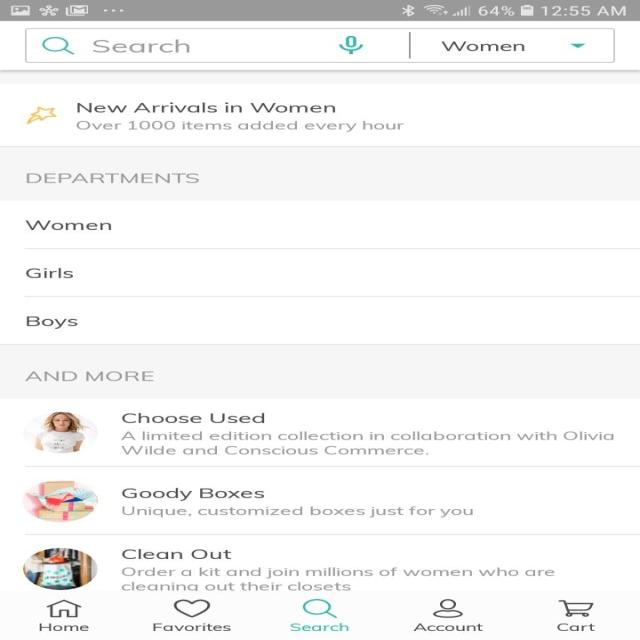EditText: (24, 28, 614, 63)
Icon: (173, 598, 211, 618), (46, 598, 82, 618), (301, 598, 337, 618), (431, 598, 463, 618), (557, 600, 594, 616), (42, 36, 74, 54), (338, 36, 362, 54), (569, 43, 586, 48)
Image: (22, 547, 98, 590), (22, 480, 98, 522), (23, 411, 98, 453), (26, 106, 57, 125)
Text: (120, 431, 614, 455), (121, 566, 555, 591), (121, 505, 473, 518), (76, 120, 403, 132), (77, 102, 336, 112), (26, 173, 200, 184), (121, 488, 264, 501), (121, 413, 265, 423), (92, 39, 190, 53), (24, 371, 154, 381), (121, 548, 232, 559), (25, 220, 111, 230), (440, 41, 524, 51), (152, 622, 231, 631), (26, 316, 78, 329), (412, 623, 482, 631), (290, 622, 348, 631), (25, 268, 73, 278), (38, 623, 89, 631), (556, 623, 594, 631)
